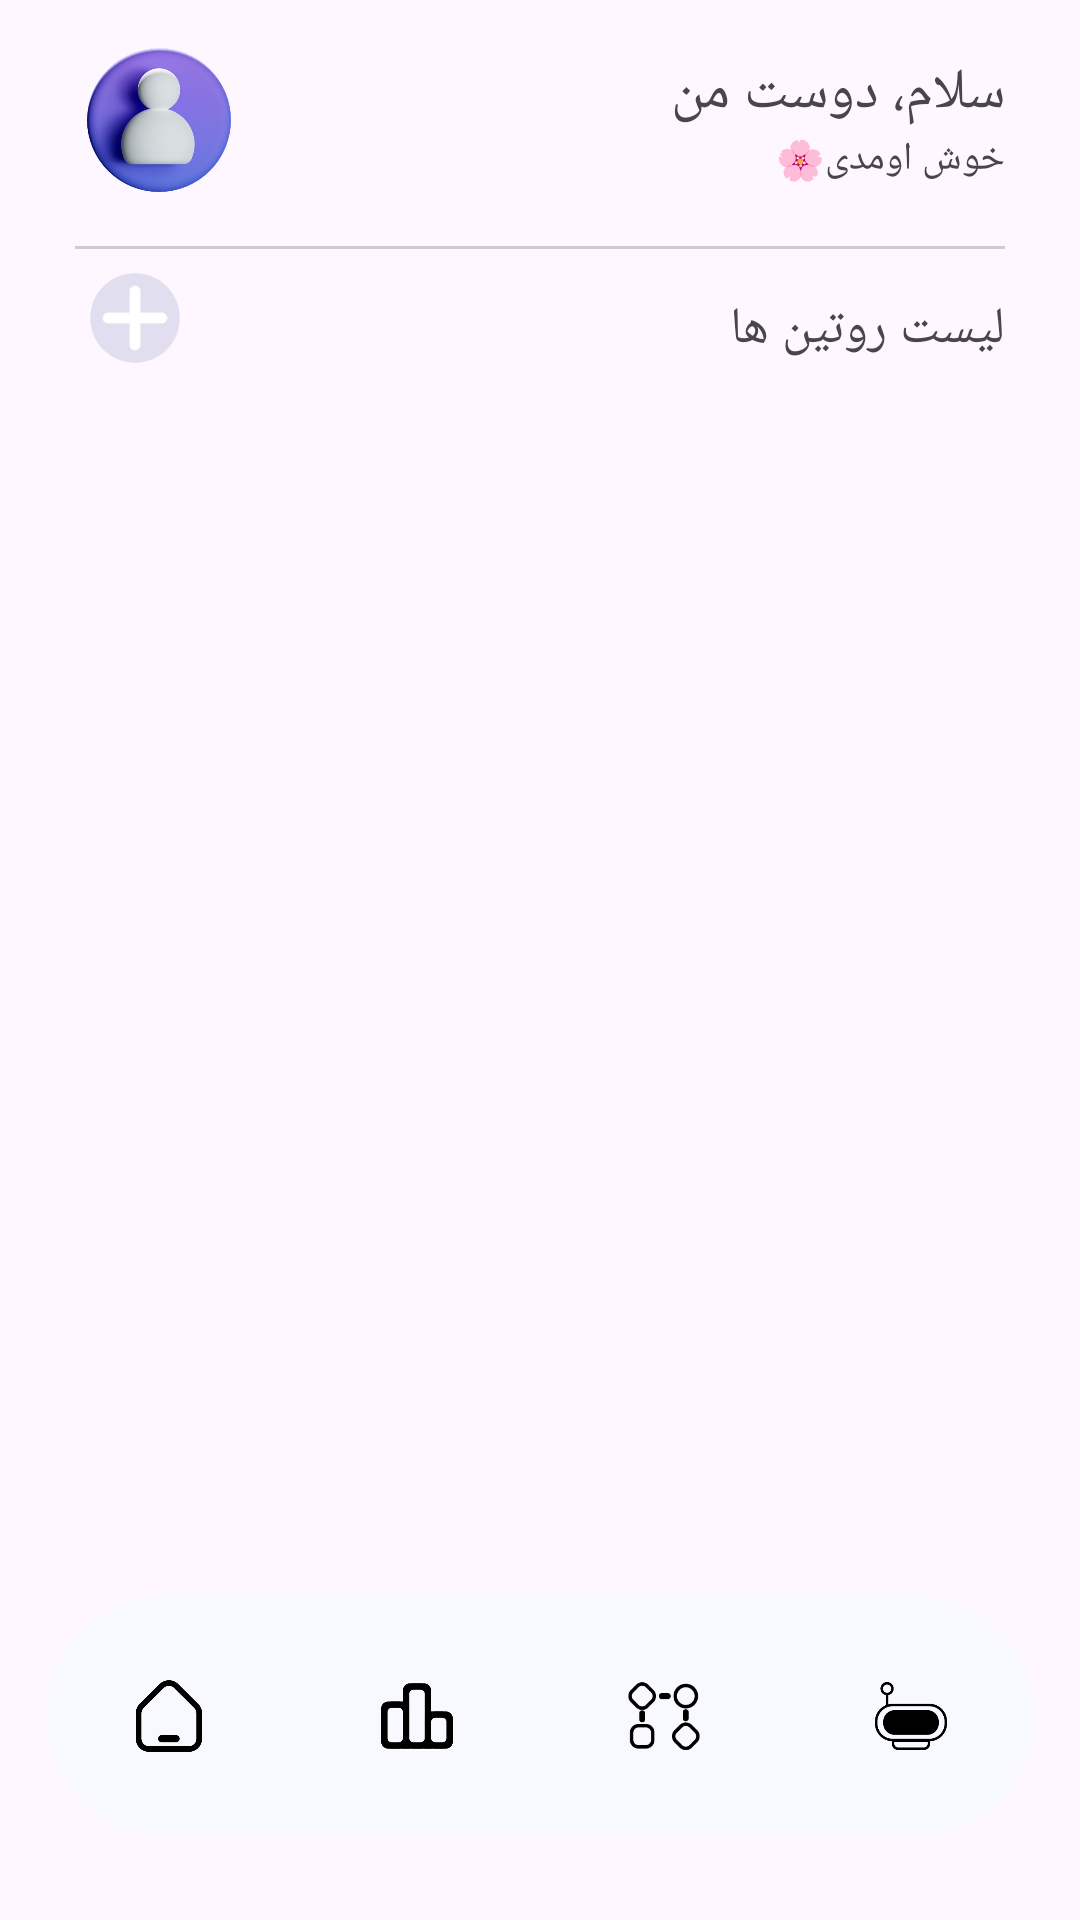

Where to tap for icons on this 1080 × 1920 app screen, as (x=x, y=y):
add: (x=135, y=318)
profile: (x=159, y=120)
